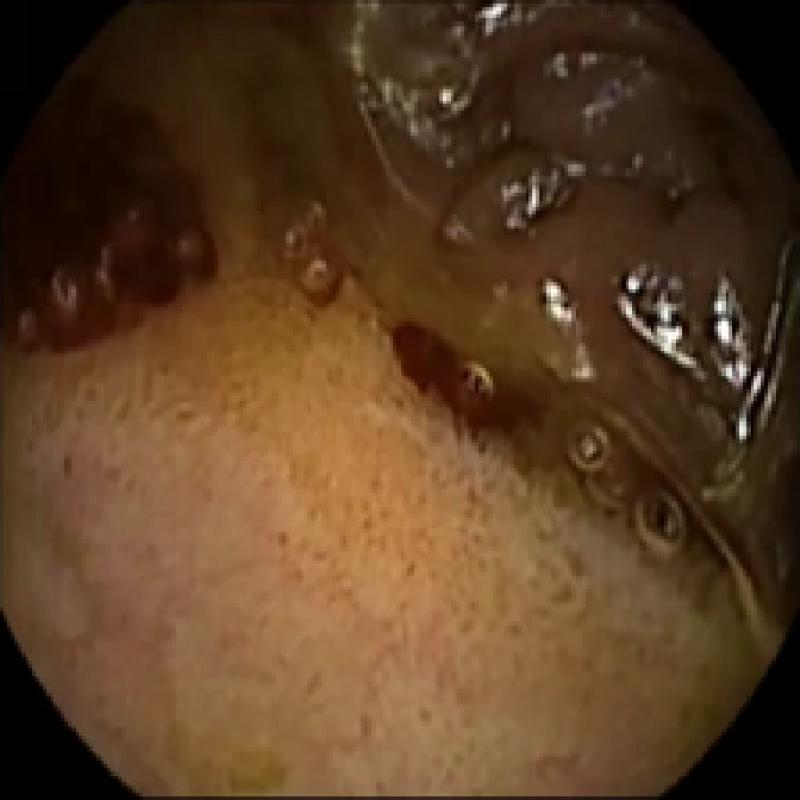bleeding: (0, 96, 212, 336), (387, 316, 548, 451)
